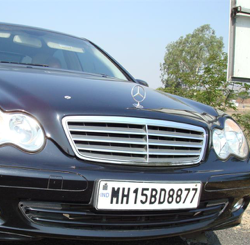MH15BD8877: (97, 181, 201, 209)
